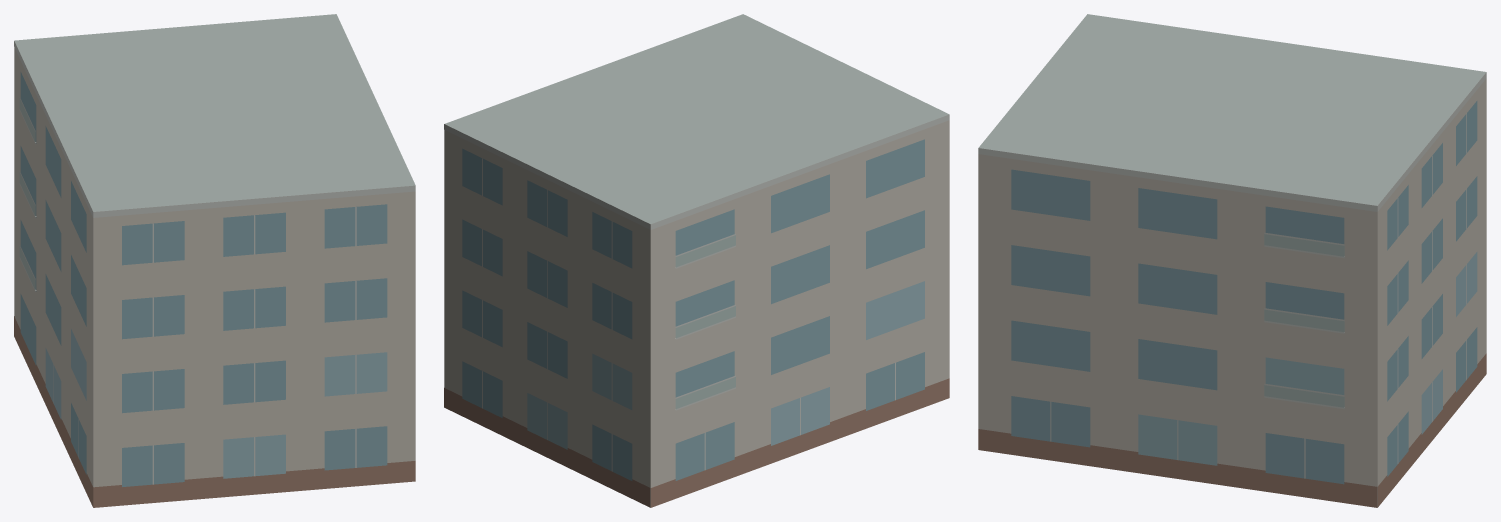
The model's file is residential-f33353b8-9780-4142-ae75-c08290b93a85.glb.
3 renders of one model, left to right at view 1: azimuth 30°, elevation 25°; view 2: azimuth 150°, elevation 25°; view 3: azimuth 270°, elevation 25°, orthographic. The views are drawn at different scales.
Parts seen in each view (by area): view 1: residential-f33353b8-9780-4142-ae75-c08290b93a85.tmp; view 2: residential-f33353b8-9780-4142-ae75-c08290b93a85.tmp; view 3: residential-f33353b8-9780-4142-ae75-c08290b93a85.tmp.
Part boxes in pixels (<box>): residential-f33353b8-9780-4142-ae75-c08290b93a85.tmp: <box>14,14,415,507</box>; residential-f33353b8-9780-4142-ae75-c08290b93a85.tmp: <box>444,14,949,507</box>; residential-f33353b8-9780-4142-ae75-c08290b93a85.tmp: <box>978,14,1486,507</box>.
Size of the model in its own units: 16.64 by 12.2 by 18.62.
